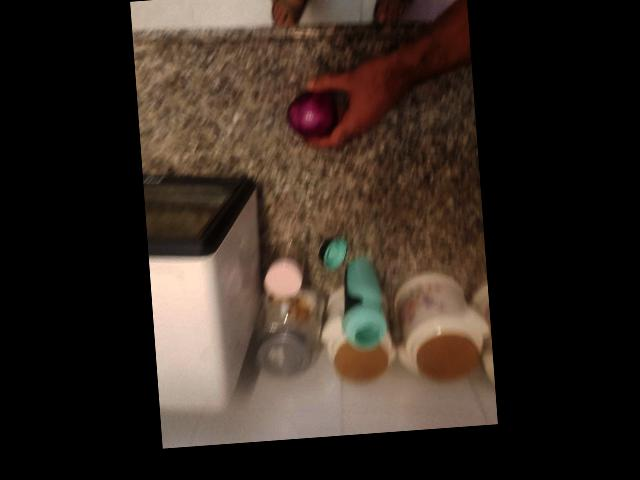onion: (282, 68, 353, 142)
